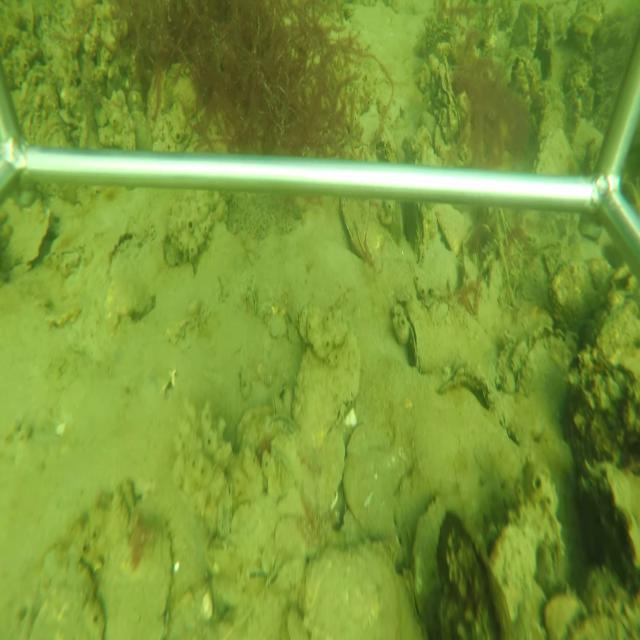Oyster-Closed: (291, 324, 363, 454), (577, 457, 639, 583), (105, 233, 157, 323), (410, 493, 447, 613), (337, 197, 388, 268), (435, 364, 496, 415), (531, 126, 580, 174), (397, 299, 422, 371), (408, 199, 429, 270)
Oyster-Indeterminate: (83, 479, 176, 639), (301, 541, 426, 639), (0, 197, 54, 278)
Oyster-Open: (514, 325, 578, 387)
